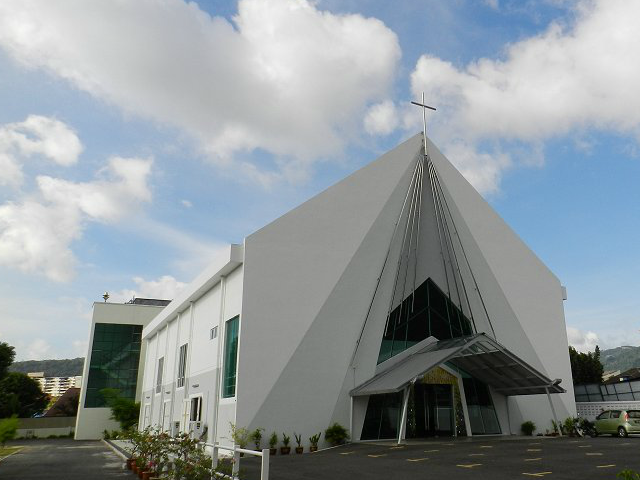Church: (122, 84, 587, 450)
